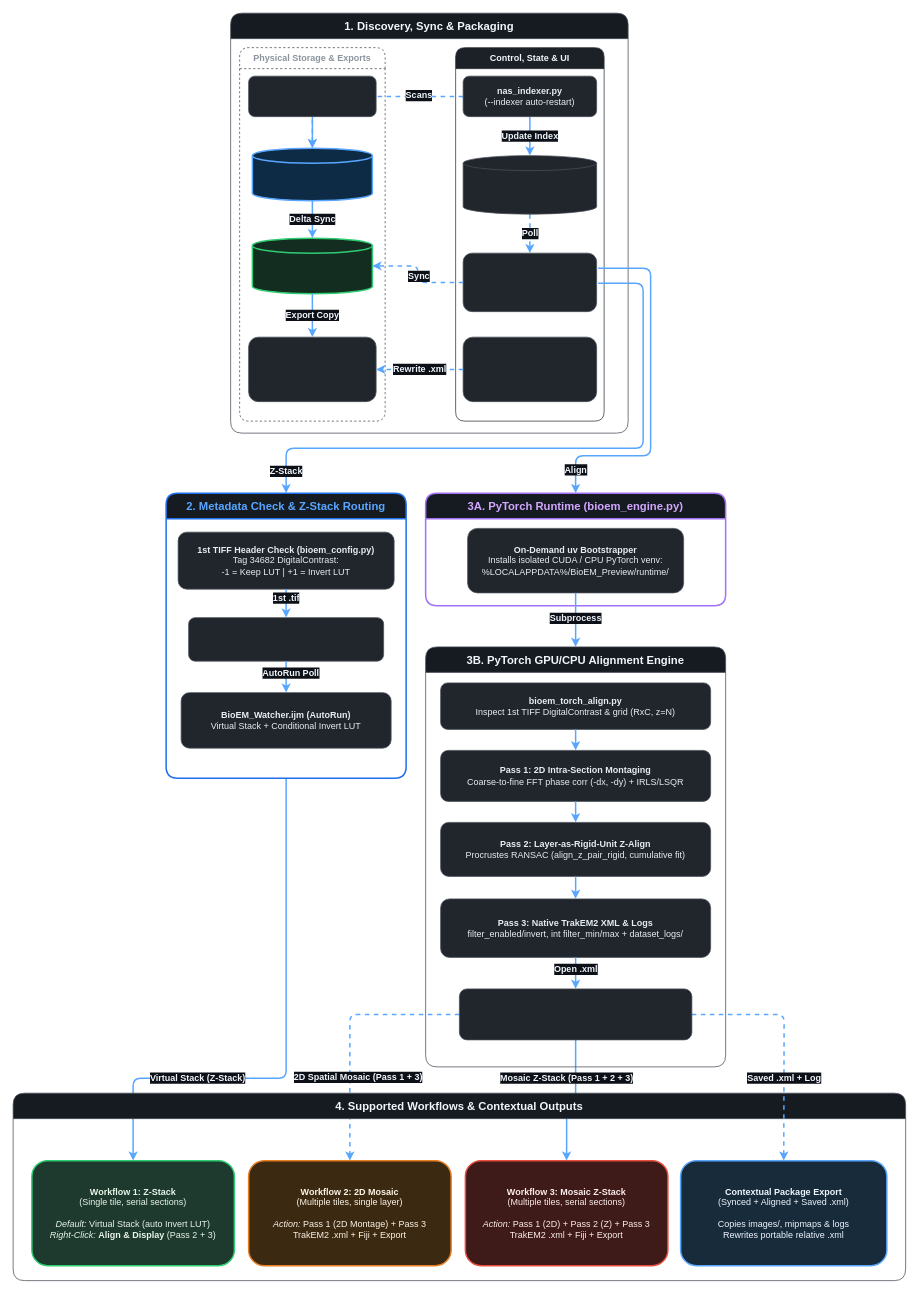
The diagram is 919 pixels wide and 1294 high, and some of its shapes have lost their labels. The shapes that lost their labels are listed below. From the top down, each one's centre as x and y in pixels, then its label:
[312,96]: MAPS Acquisition (Z-Stack / Mosaic / Mosaic-Z)
[312,174]: Network Storage (I:/Maps)
[529,184]: %APPDATA%/BioEM_Preview/ cache, aligned_datasets, dataset_logs/
[312,265]: Local Scratch SSD (D:/<Dataset>)
[529,282]: Preview_beta.exe Badges, Logs Drawer, Setup Wizard
[312,369]: Export Data Package <Pkg>/images/, .xml, mipmaps & action.log
[529,369]: Right-Click Menu Show Folder | Align Z Export Pkg | Refresh
[286,639]: fiji_trigger.txt ...|z-stack|1|1|invert=0/1
[575,1014]: Fiji (Java 8) / TrakEM2 Direct Display, Mipmaps & Inspection
